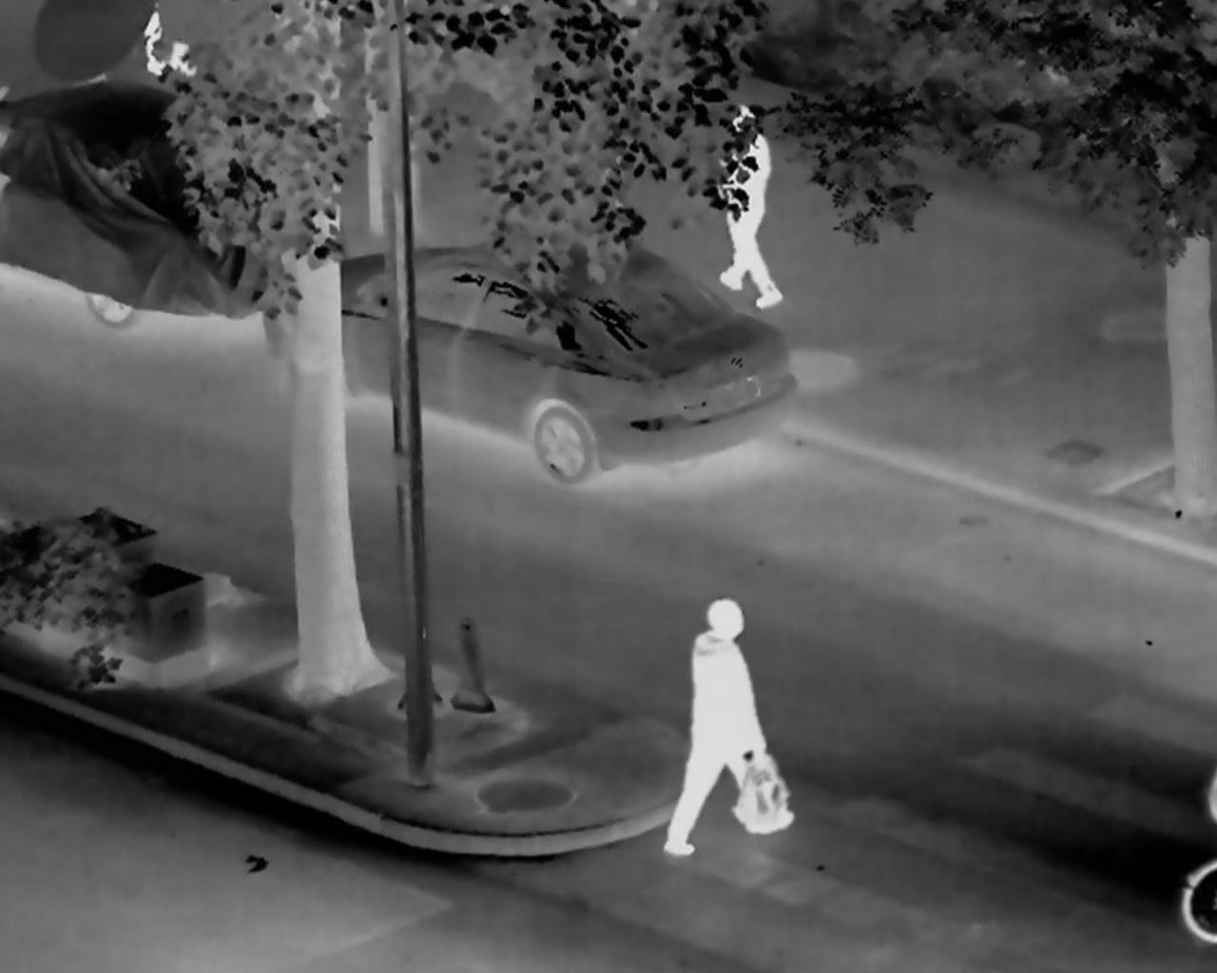person: (663, 597, 798, 858), (704, 99, 785, 313)
